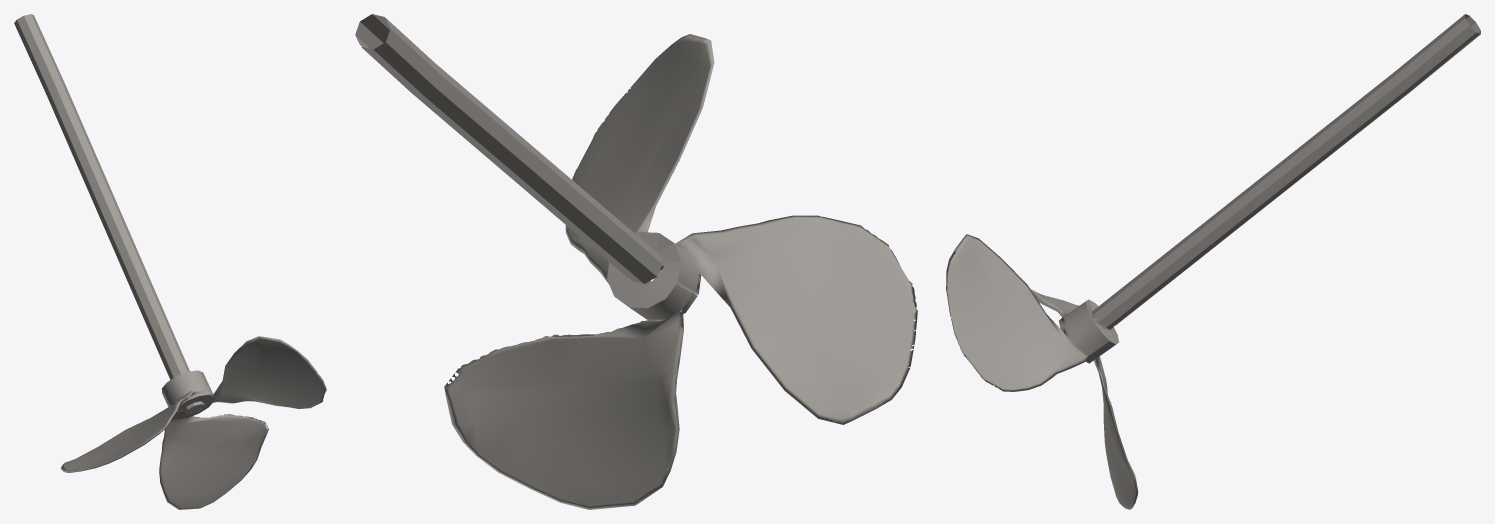
The model's file is propeller_wAnim.fbx.
The picture shows the model from 3 angles, left to right: view 1: azimuth 30°, elevation 25°; view 2: azimuth 150°, elevation 25°; view 3: azimuth 270°, elevation 25°; orthographic projection. The views are drawn at different scales.
Visible parts, largest first — view 1: boat_propeller; view 2: boat_propeller; view 3: boat_propeller.
Part boxes in pixels (x1,y1,x2,y2): boat_propeller: [14, 14, 326, 509]; boat_propeller: [355, 14, 917, 509]; boat_propeller: [946, 14, 1480, 509].
Size of the model in its own units: 31.4 by 51.43 by 53.33.
1 material, 1 textured.
